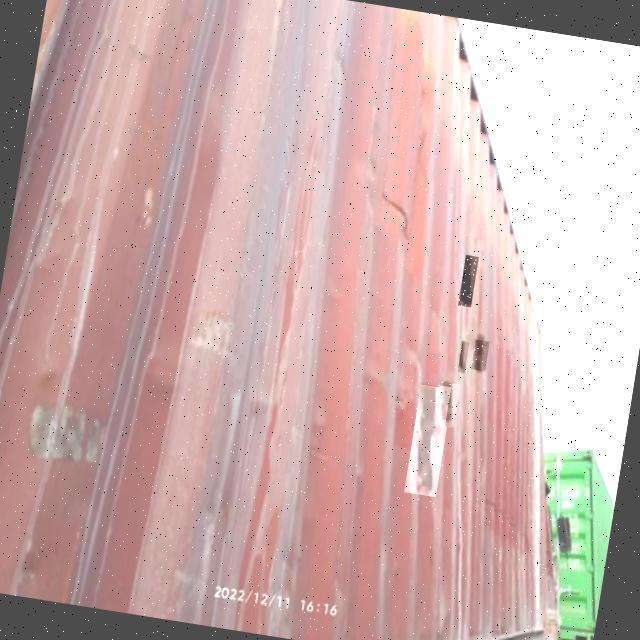Rust: (414, 386, 446, 495), (439, 384, 456, 427), (463, 256, 475, 306), (475, 340, 485, 371), (460, 342, 466, 369)
